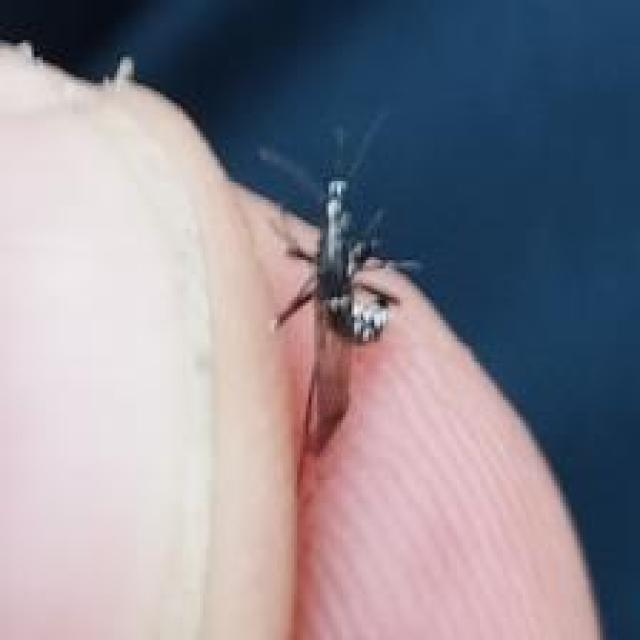Aedes albopictus: (254, 109, 423, 457)
